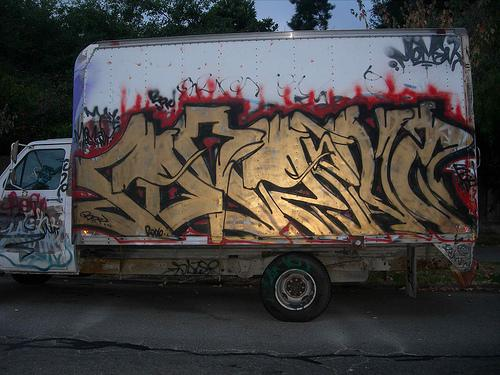truck: (0, 27, 480, 323)
